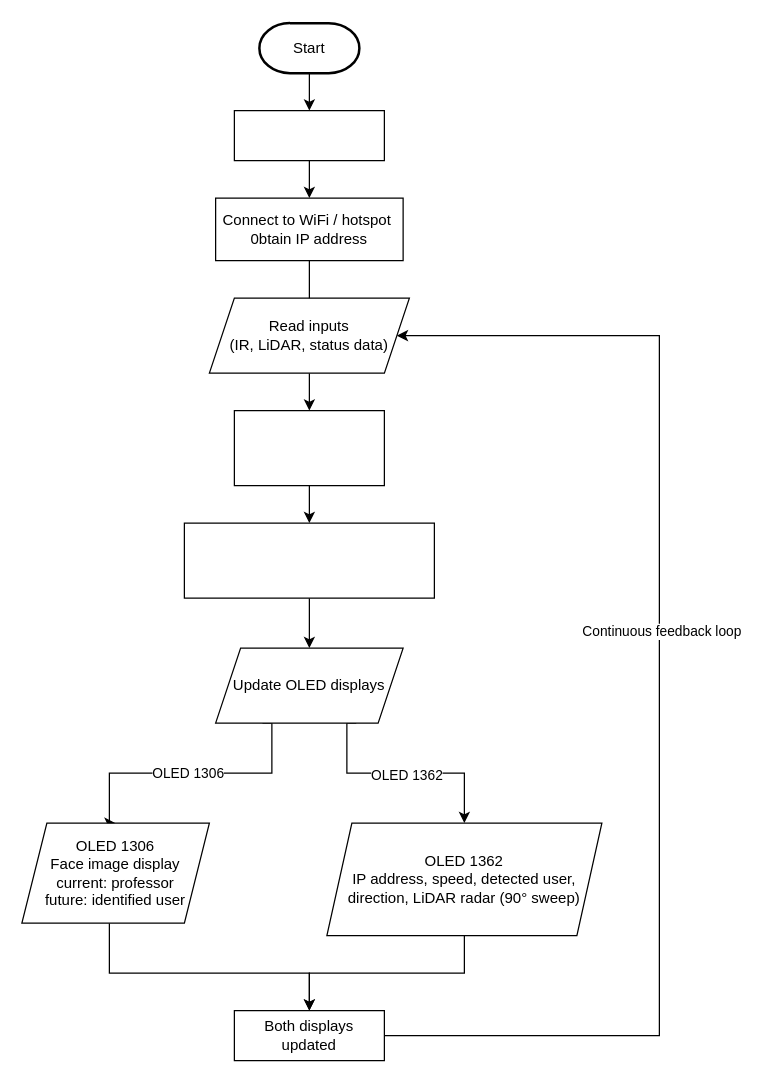
Image size: 763x1083. Some labels were removed from this diagram. The centre of each missing label's shape, as x and y in pixels:
"Generate diaplay data IR, speed, direction, user, radar" goes at pixel 308 560.
"Initialise peripherals" goes at pixel 308 135.
"Process IR data Identify user" goes at pixel 308 447.
